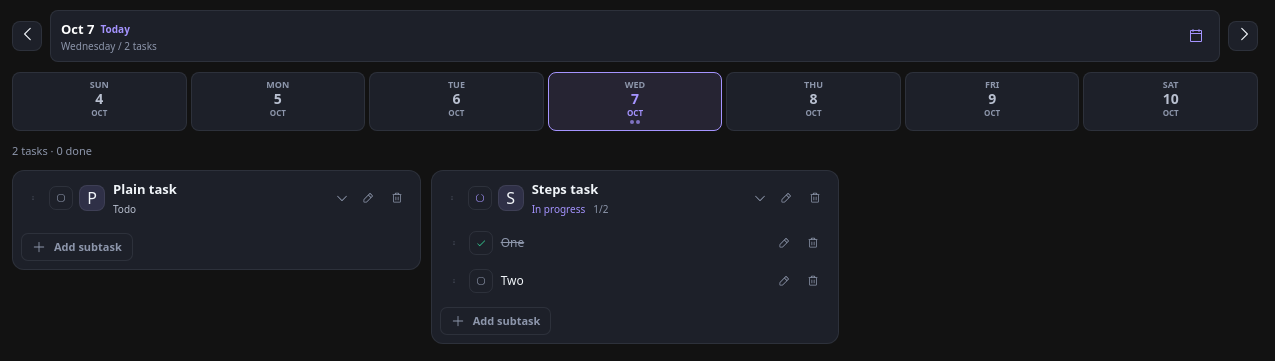
it: the status of a task and its subtasks › the button on the task card › completes a task with one click, and the summary follows
Expected: the text "2 tasks · 0 done" is shown, [12,143,92,158]
Click the button with test id "task-status-plain" at (61, 198), box [49,186,73,210]
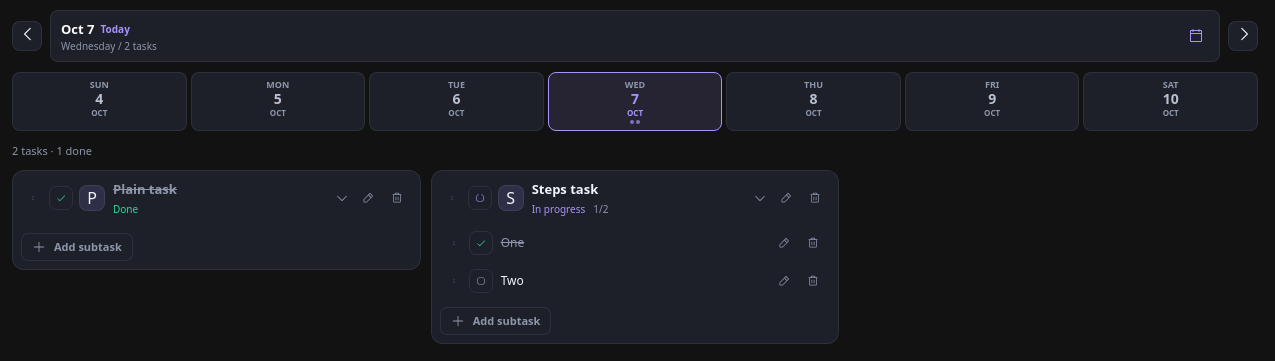
Now the text "2 tasks · 1 done" is shown, box [12,143,92,158]
